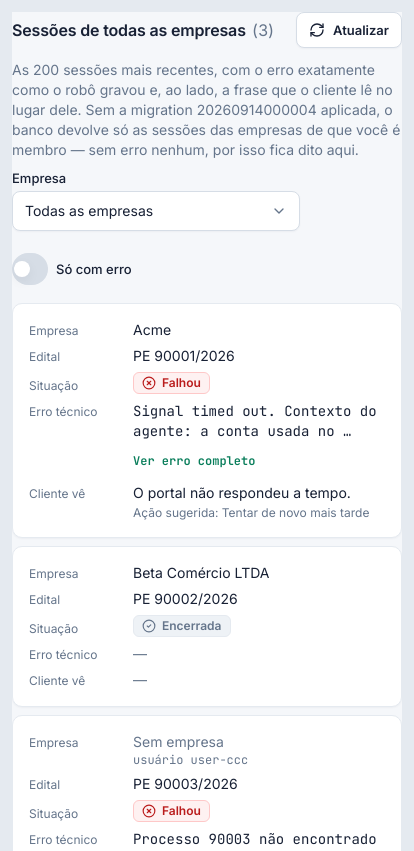
Test: diagnóstico de sessões › mostra o erro técnico inteiro ao lado do que o cliente vê
expect the text "O portal não respondeu a tempo." is shown: met, box [133,483,385,503]
Click the button "Ver erro completo".
click(194, 461)  # box [133,445,255,477]
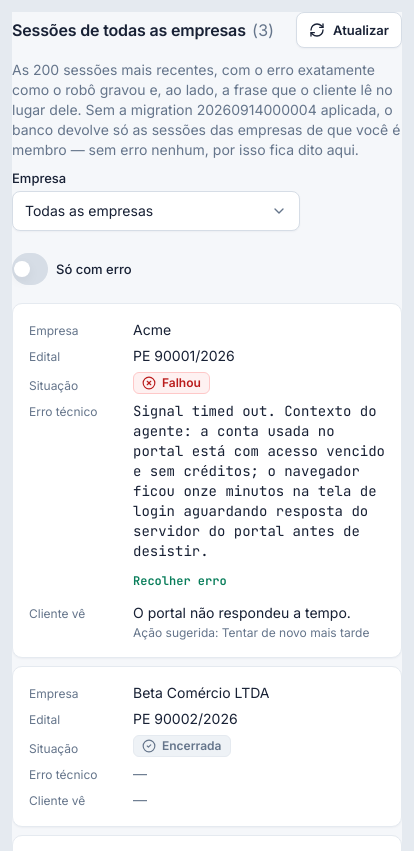
expect the button "Recolher erro" is expanded: met, box [133,565,227,597]
